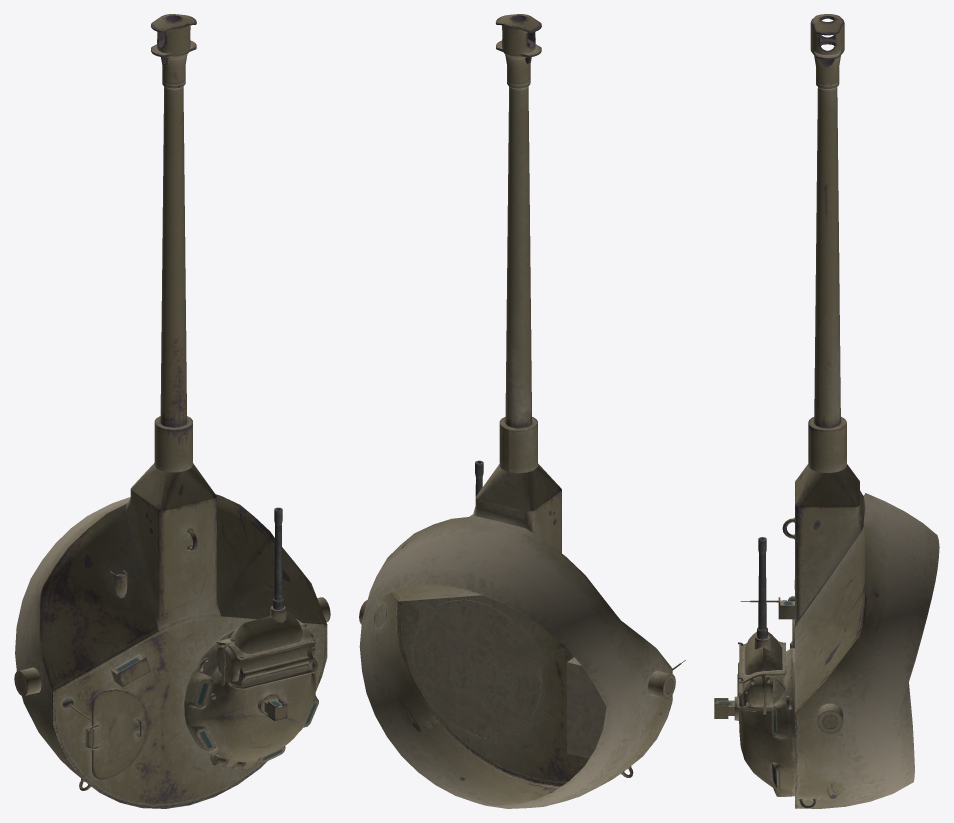
Rendered from Gun_01.glb.
The picture shows the model from 3 angles, left to right: view 1: azimuth 30°, elevation 25°; view 2: azimuth 150°, elevation 25°; view 3: azimuth 270°, elevation 25°; orthographic projection.
Visible parts, largest first — view 1: set_0_group_0; view 2: set_0_group_0; view 3: set_0_group_0.
Part boxes in pixels (bbox=[...]): set_0_group_0: bbox=[14, 14, 330, 808]; set_0_group_0: bbox=[359, 14, 685, 808]; set_0_group_0: bbox=[714, 14, 939, 808].
Bounding box in the file's own units: 2.26 × 5.52 × 1.45.
1 material, 1 textured.
